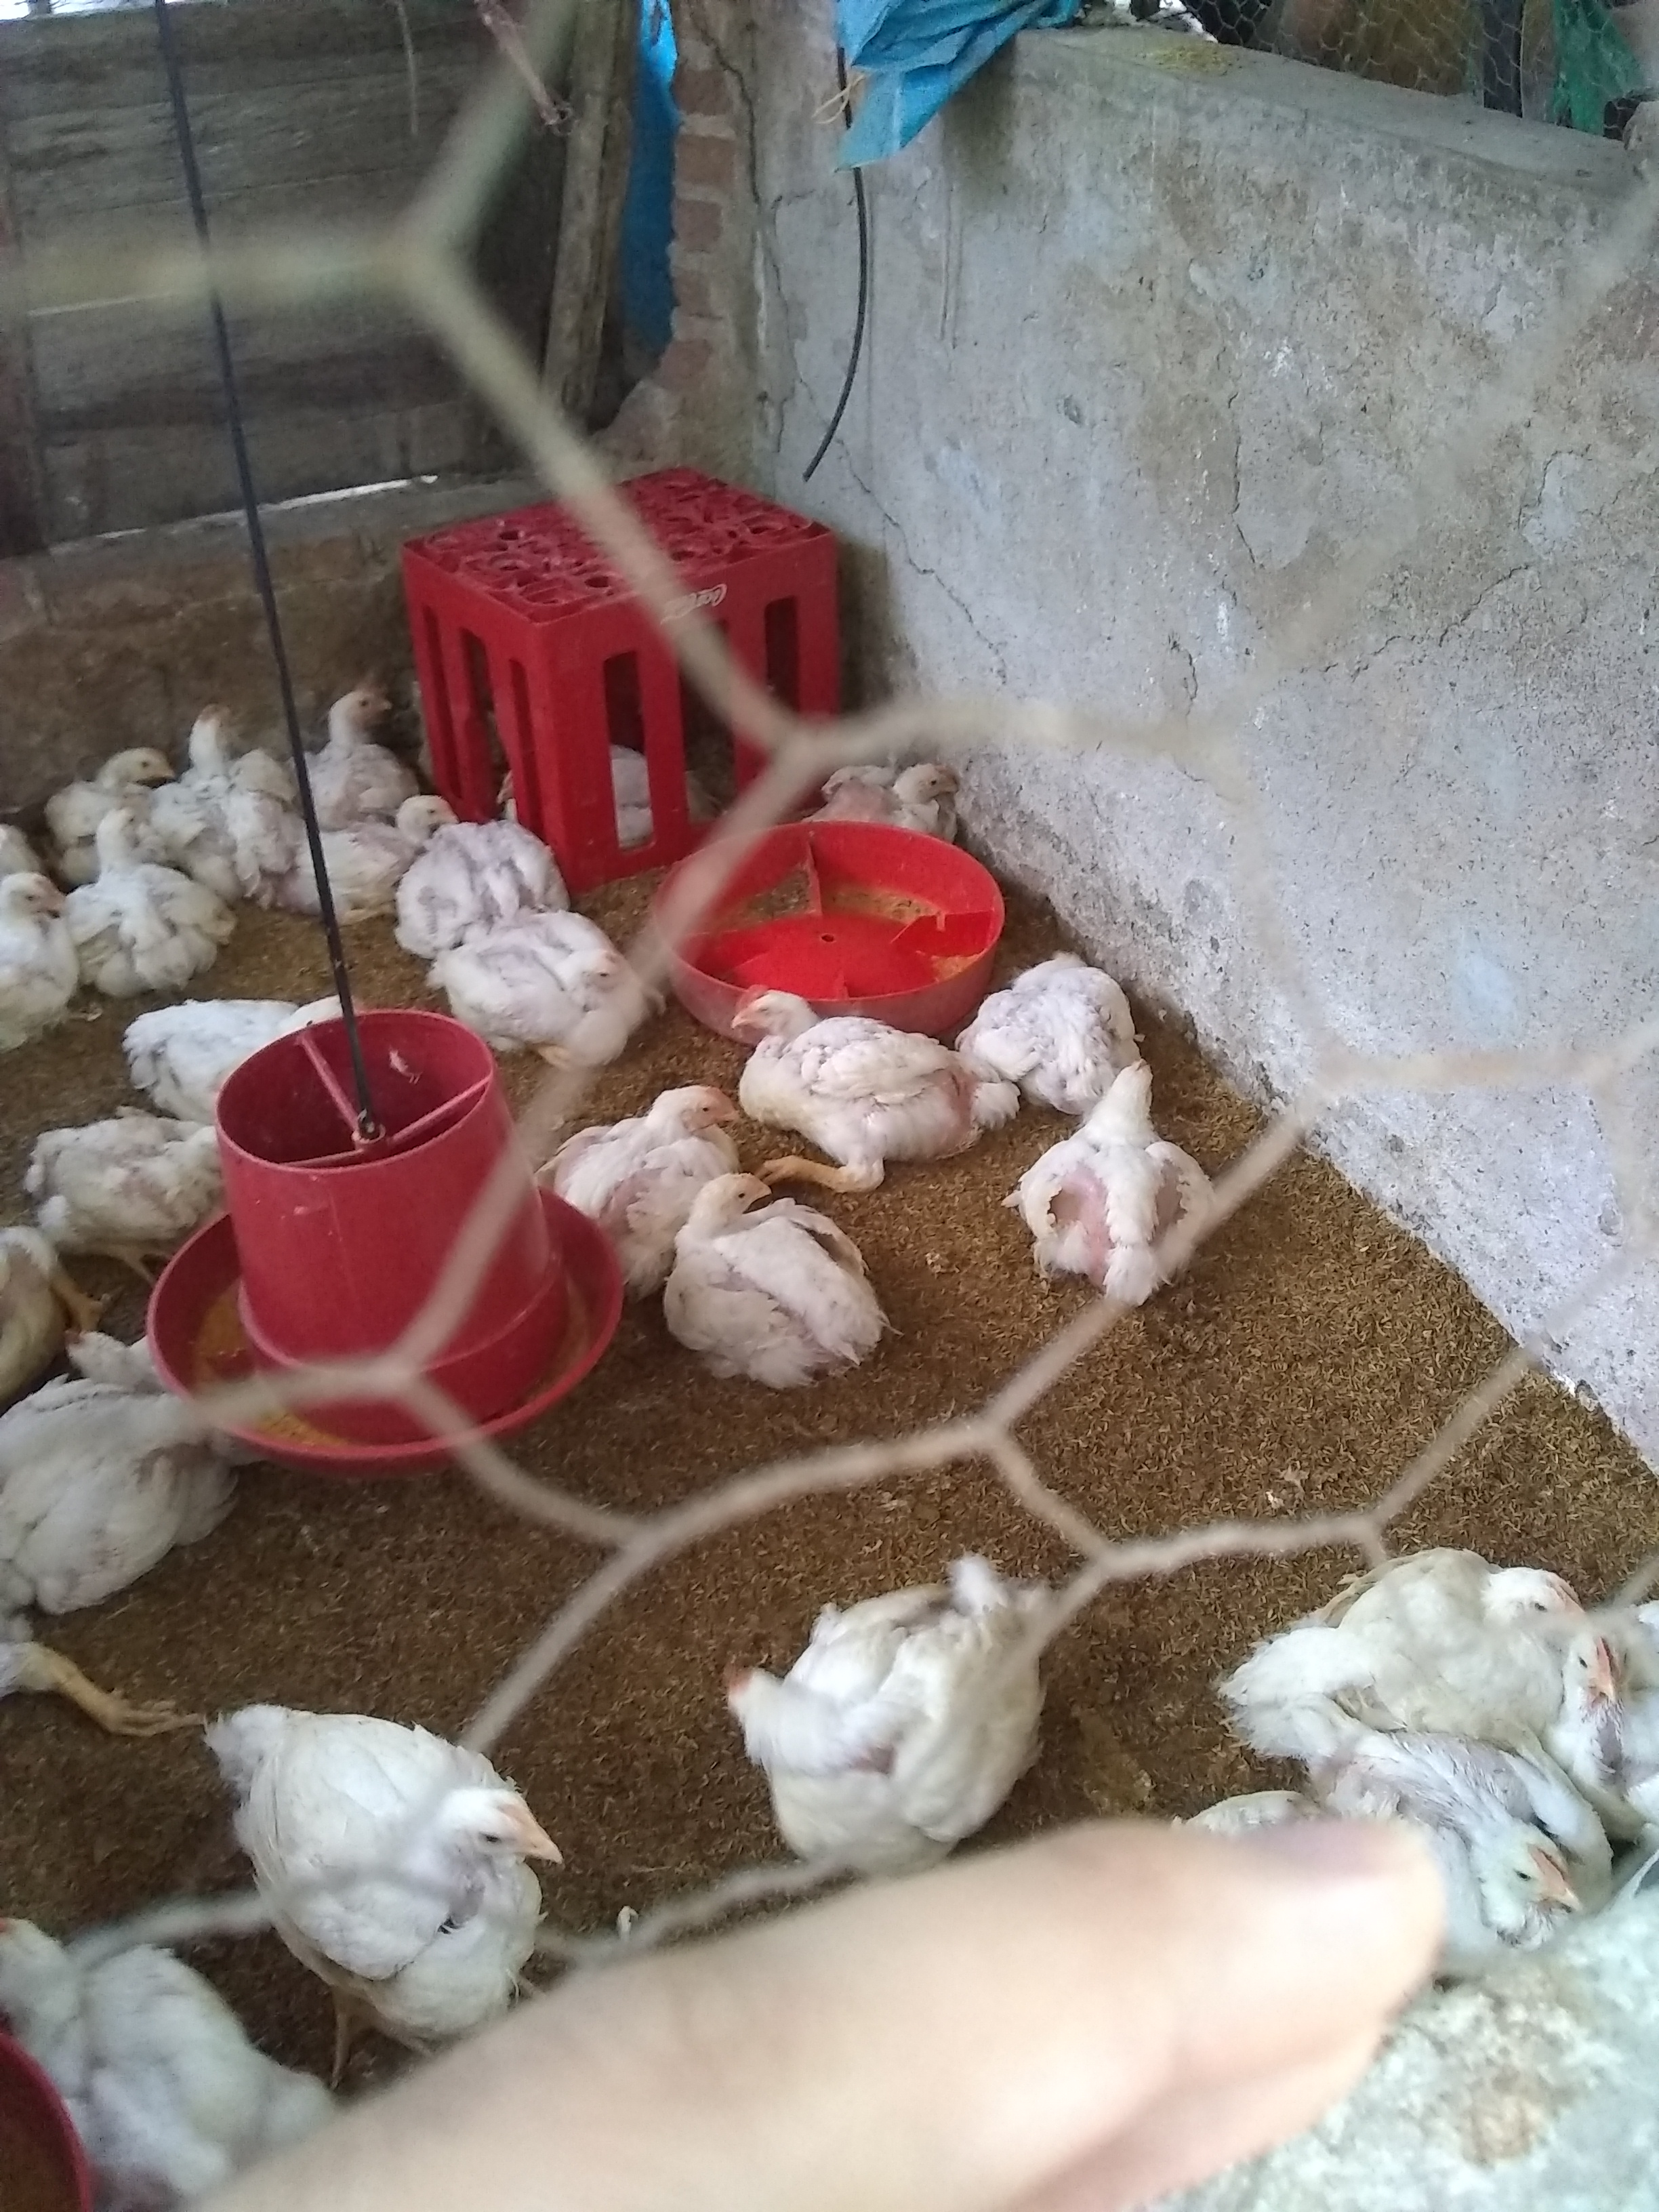Pollos: (209, 1616, 573, 1998), (716, 1522, 1058, 1892), (1215, 1684, 1603, 1973), (0, 1266, 261, 1693), (0, 1916, 403, 2163), (695, 965, 1007, 1191), (667, 1181, 958, 1388), (1270, 1536, 1595, 1707), (1035, 1075, 1229, 1322), (23, 1097, 253, 1282), (406, 920, 687, 1069), (958, 887, 1150, 1099), (54, 803, 240, 1003), (124, 975, 383, 1111), (406, 792, 605, 956), (788, 686, 978, 852), (162, 683, 305, 885), (1537, 1566, 1659, 1791), (561, 1073, 741, 1217), (303, 664, 432, 820), (0, 850, 75, 1047), (317, 808, 446, 906), (24, 733, 178, 803)
